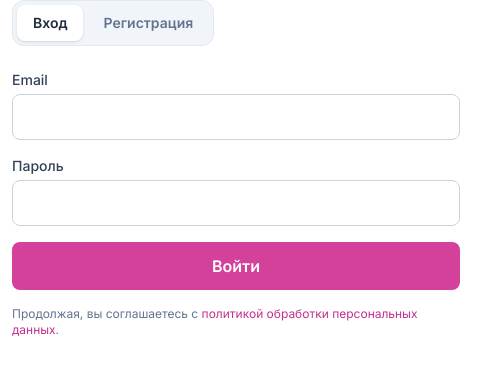
it: AuthForm › reports a failed sign-in
Type "a@b.by" into the field labelled "Email" at (236,117), box x1=12 y1=94 x2=460 y2=140
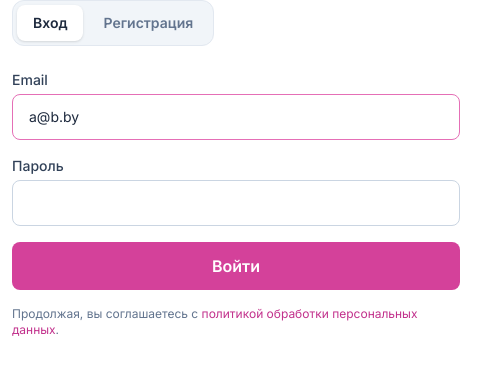
Type "long-enough" into the password field labelled "Пароль" at (236,203), box x1=12 y1=180 x2=460 y2=226
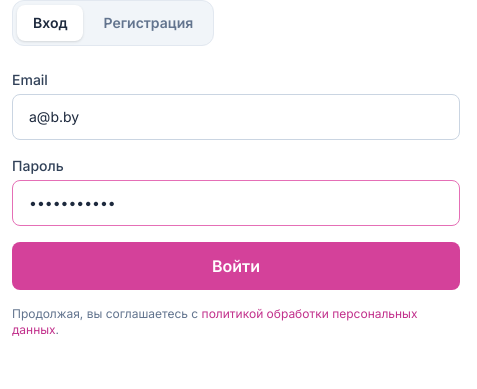
Click the button "Войти" at (236,266), box x1=12 y1=242 x2=460 y2=290
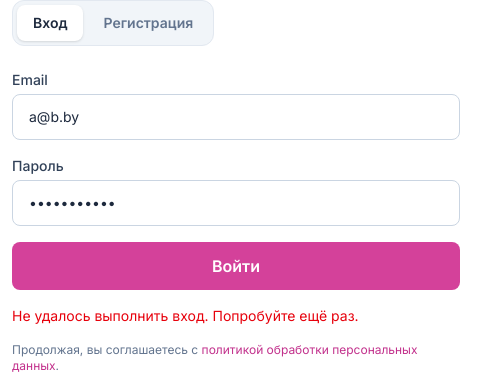
expect the text "Не удалось выполнить вход. Попробуйте ещё раз." is shown: met, box x1=12 y1=307 x2=359 y2=324
